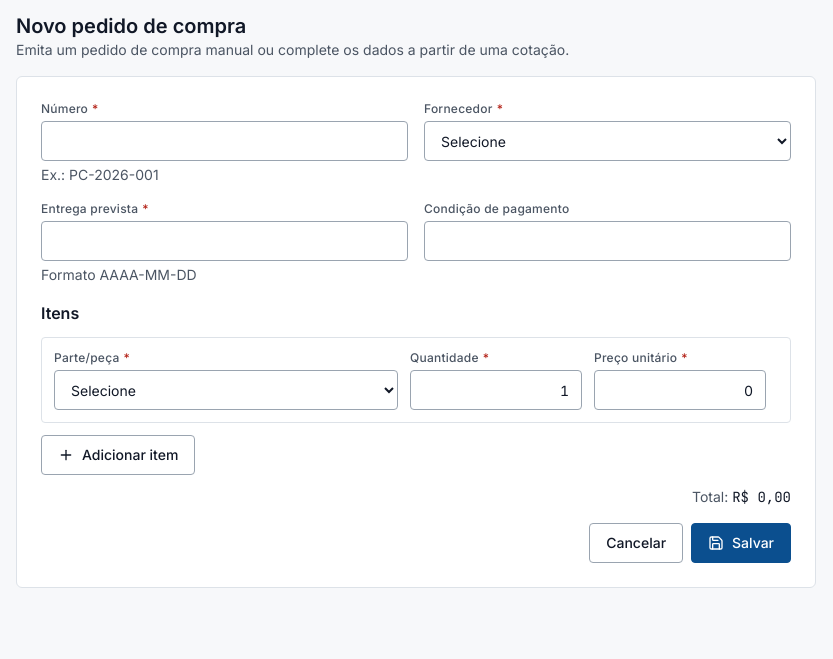
Test: NovoPedidoCompra › conflito 409 mostra alerta e nao navega
Type "PC-2026-001" into the field labelled "Número*".
click(224, 141); type("PC-2026-001")  # box 41,121 -> 408,161
Select "Componentes Silva Ltda" in the dropdown labelled "Fornecedor*" at (608, 141), box 424,121 -> 791,161
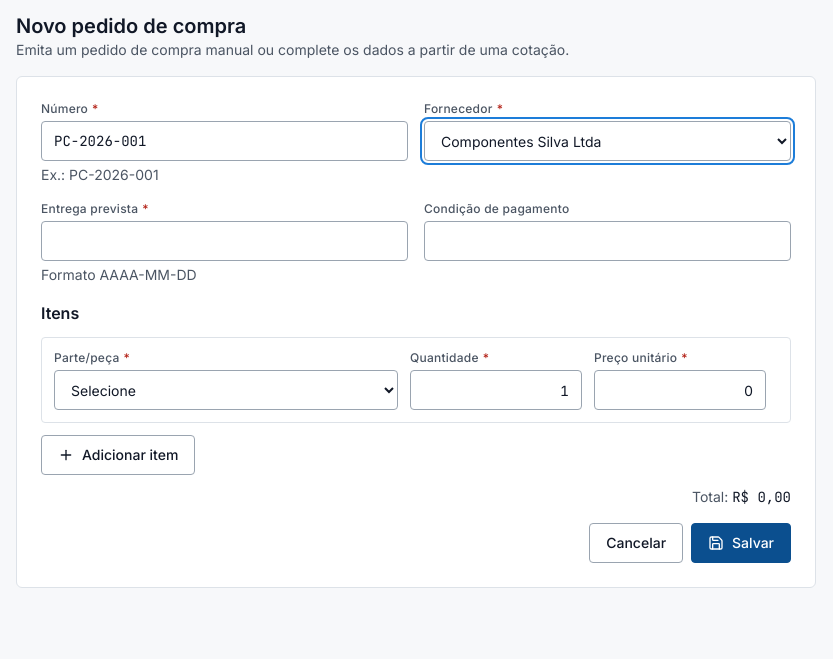
Type "2026-09-25" into the field labelled "Entrega prevista*".
click(224, 241); type("2026-09-25")  # box 41,221 -> 408,261
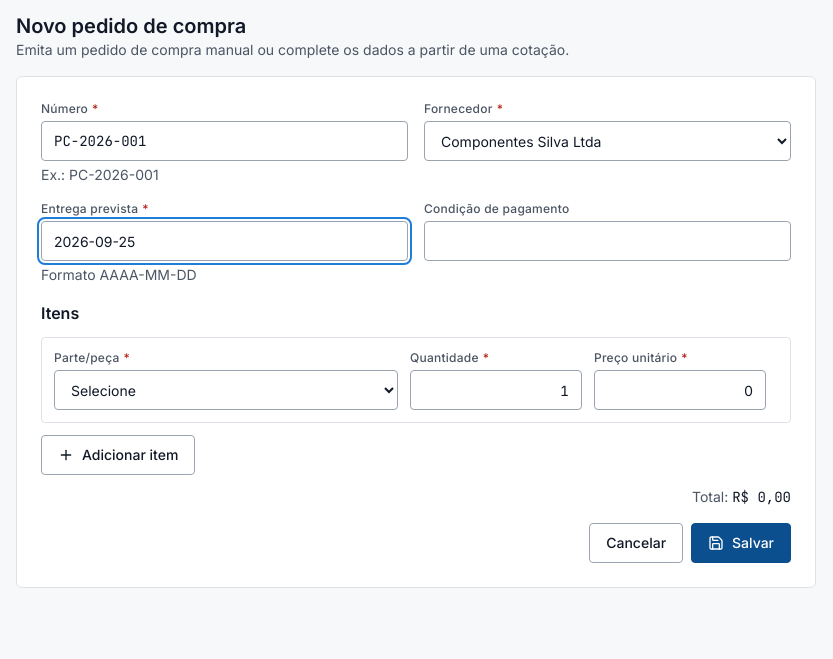
Select "RES-10K — Resistor" in the dropdown labelled "Parte/peça*" at (226, 390), box 54,370 -> 398,410
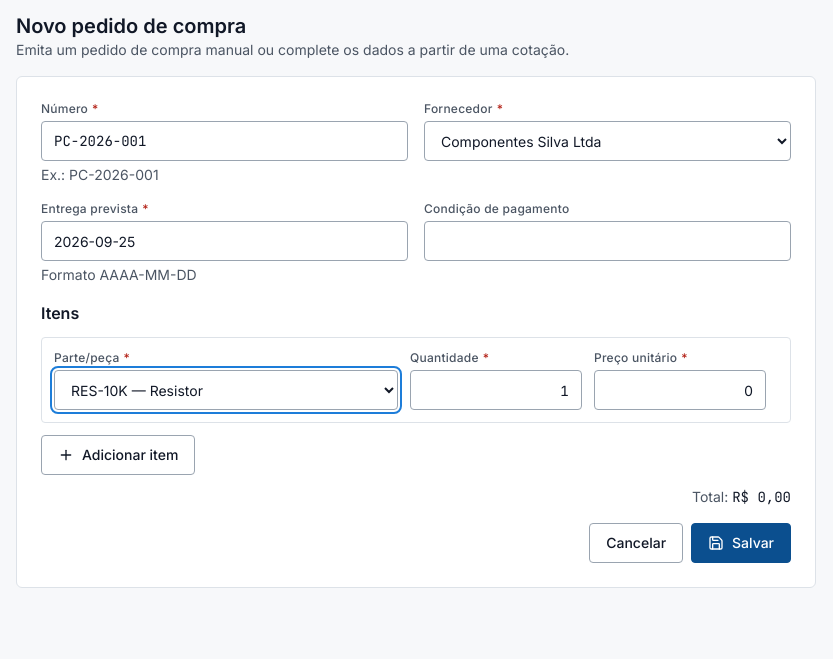
Replace the text in the field labelled "Quantidade*" with "100" at (496, 390), box 410,370 -> 582,410
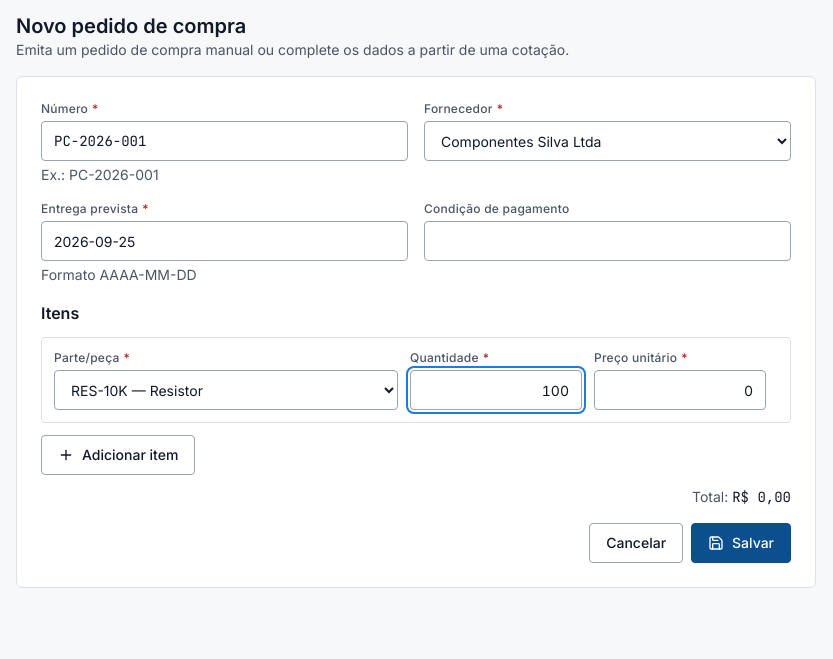
Replace the text in the field labelled "Preço unitário*" with "50" at (680, 390), box 594,370 -> 766,410
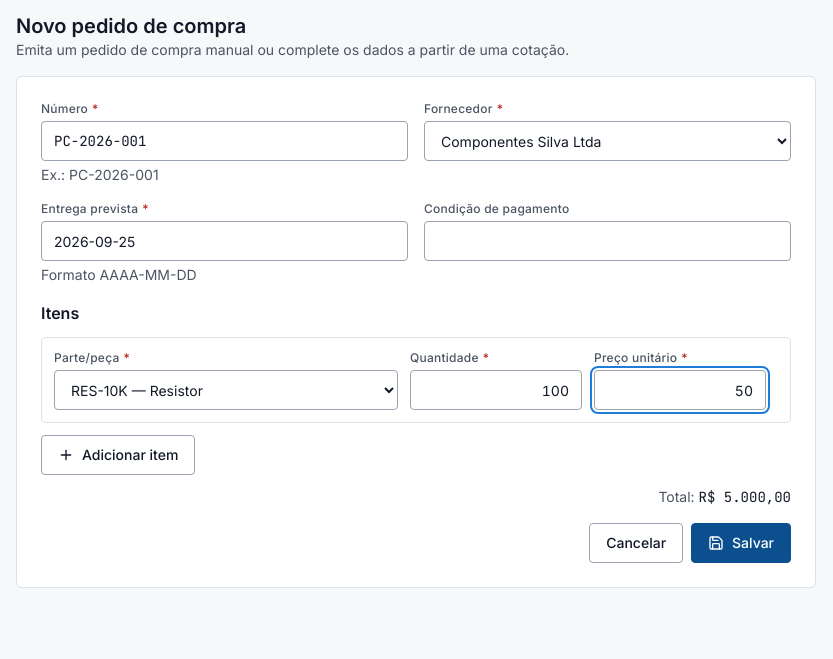
Click the button "Salvar".
click(741, 543)  # box 691,523 -> 791,563
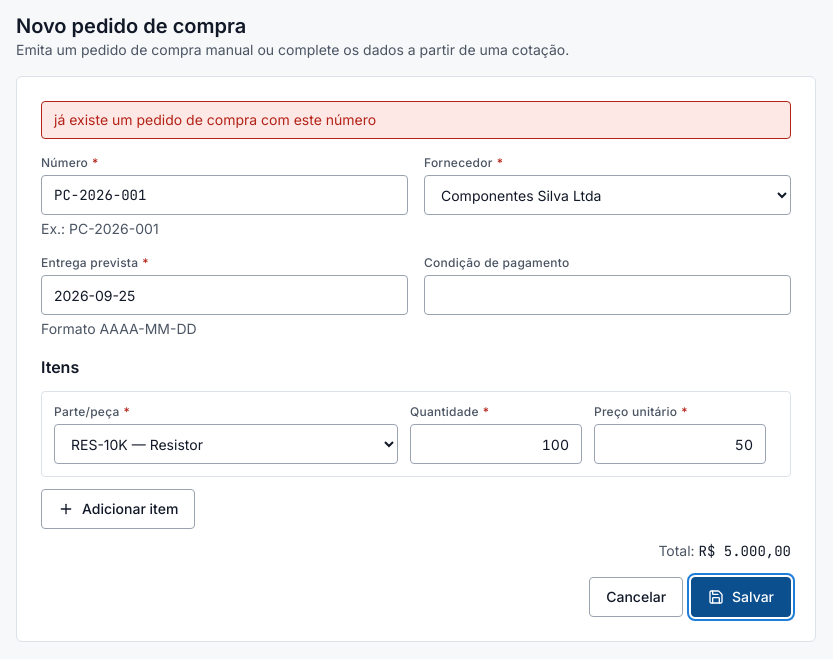
Check: the message reads "já existe um pedido de compra com este número", box 54,111 -> 376,128
